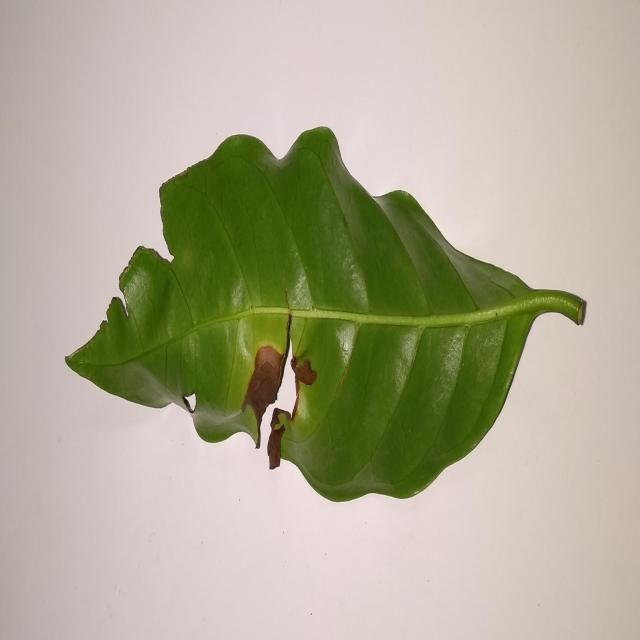Enfermedad-Antracnosis: (63, 127, 588, 506)
